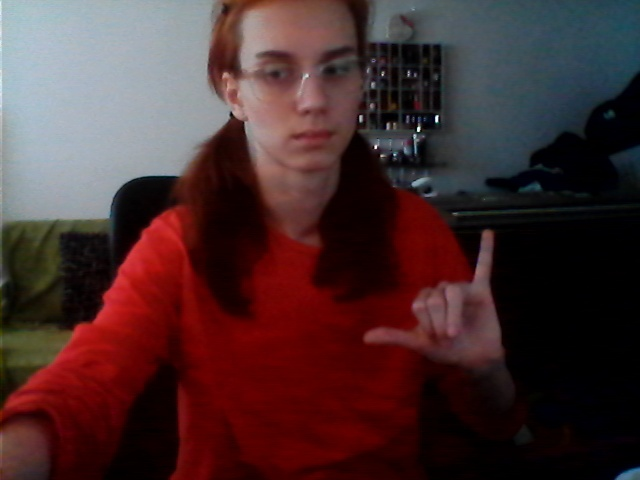kto: (341, 226, 524, 373)
